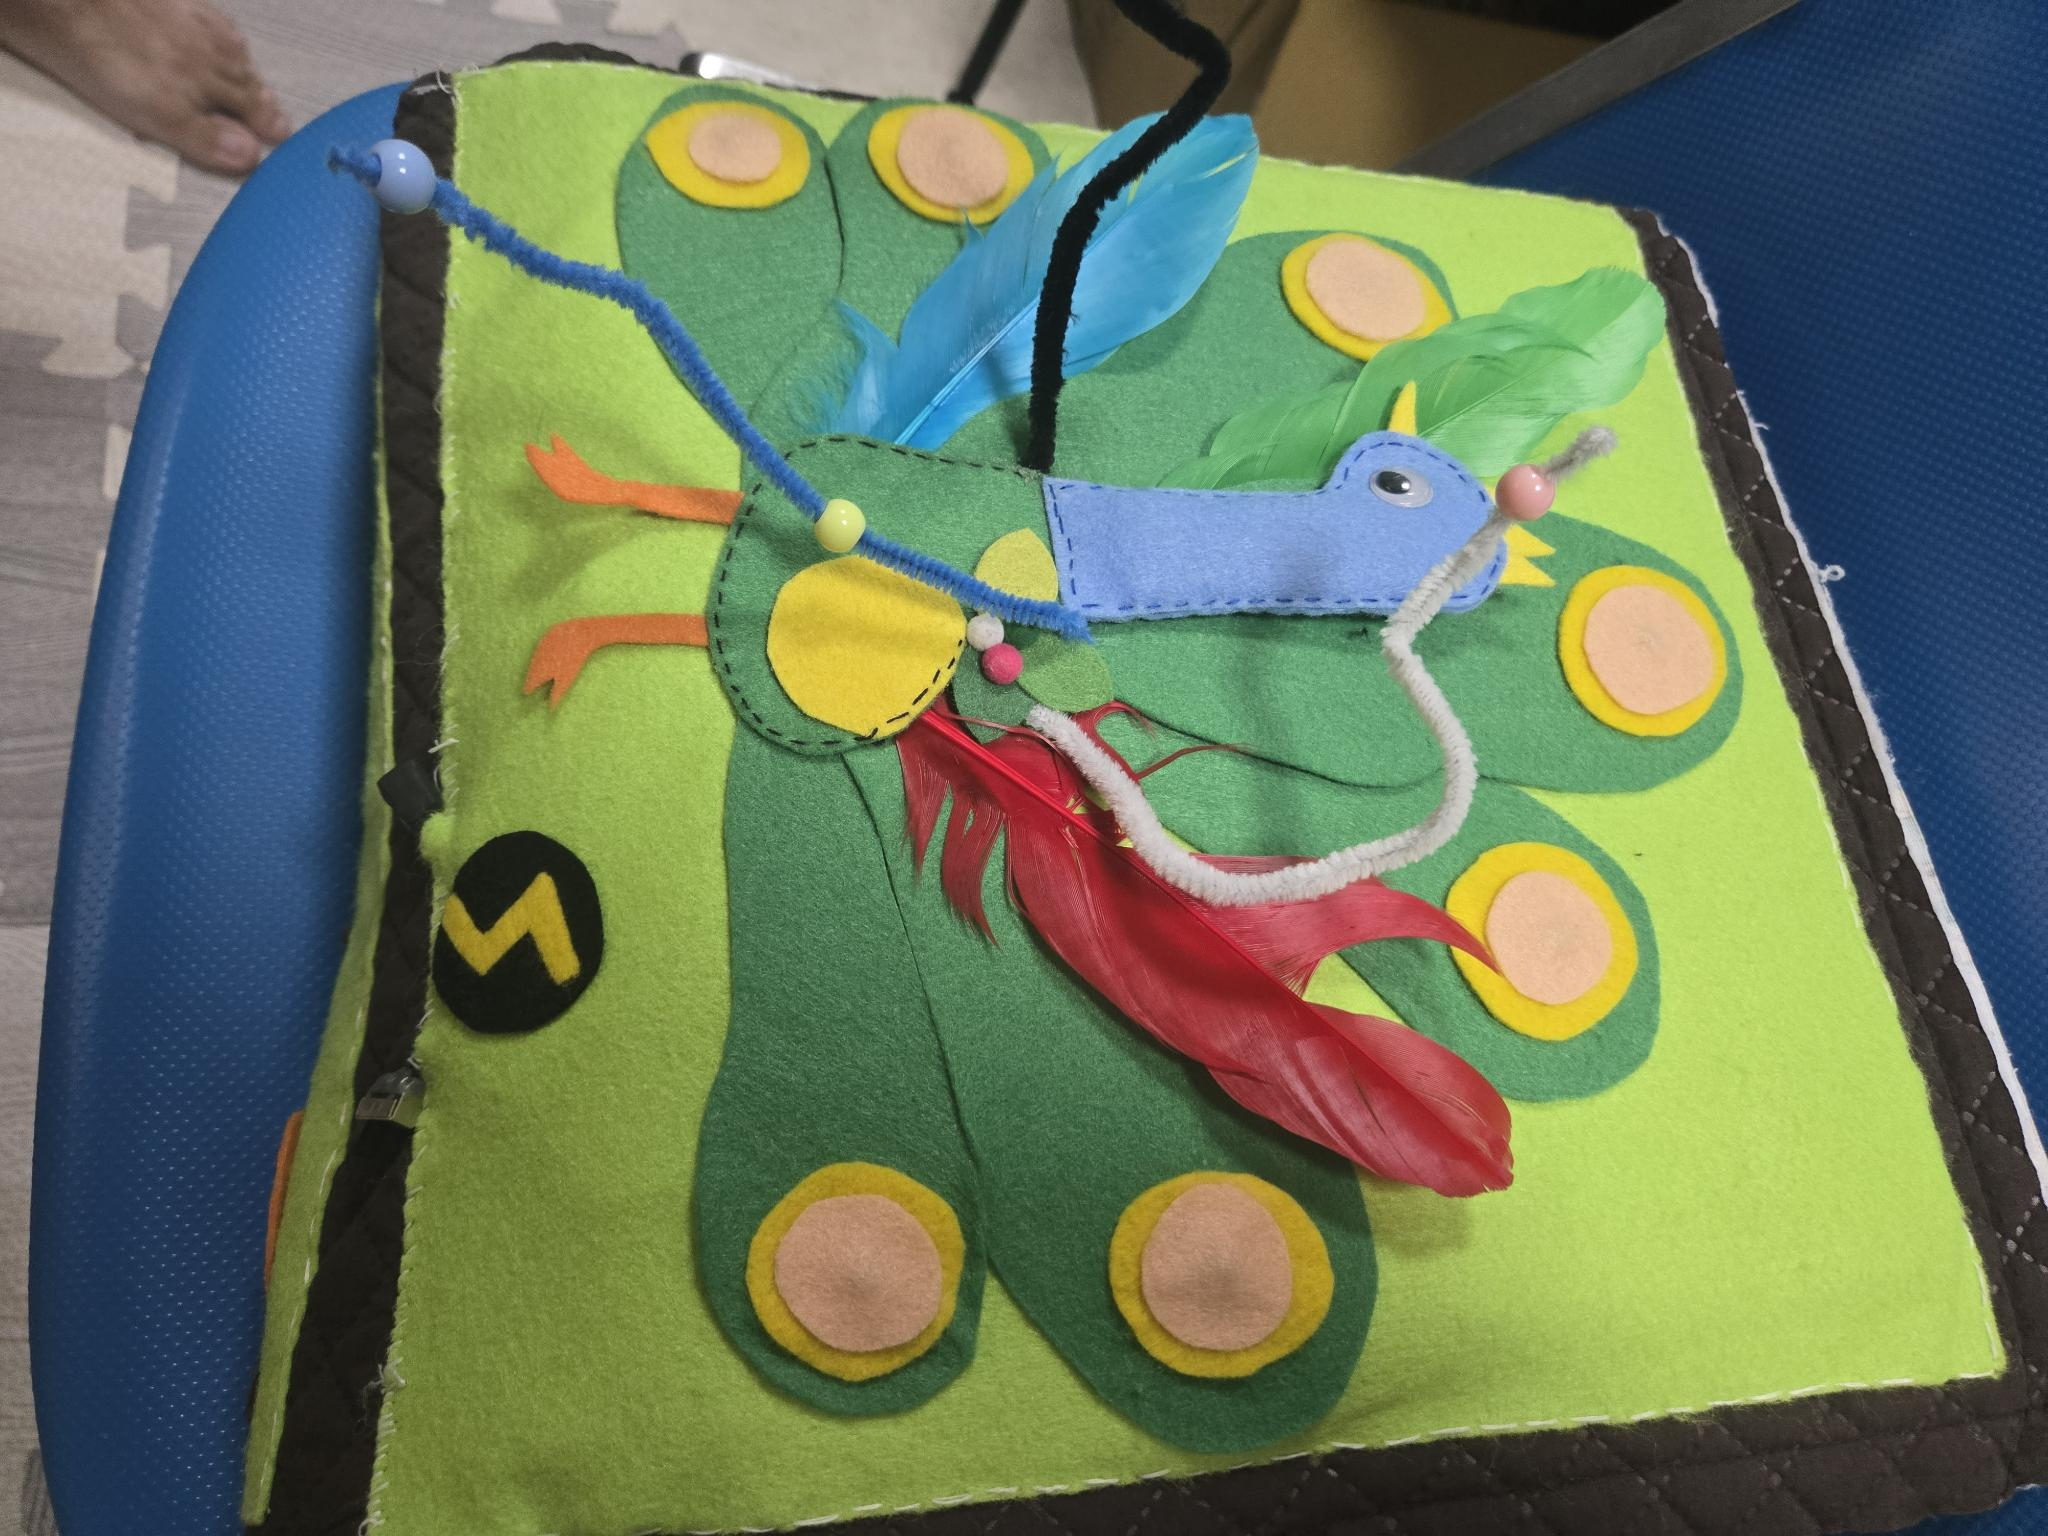bead: (353, 119, 456, 237), (801, 474, 877, 573), (1484, 452, 1569, 536)
